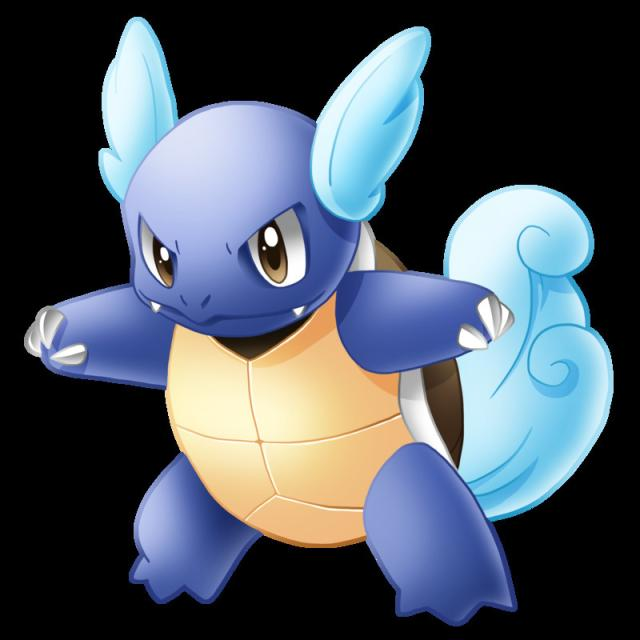Wartortle: (65, 18, 487, 640)
